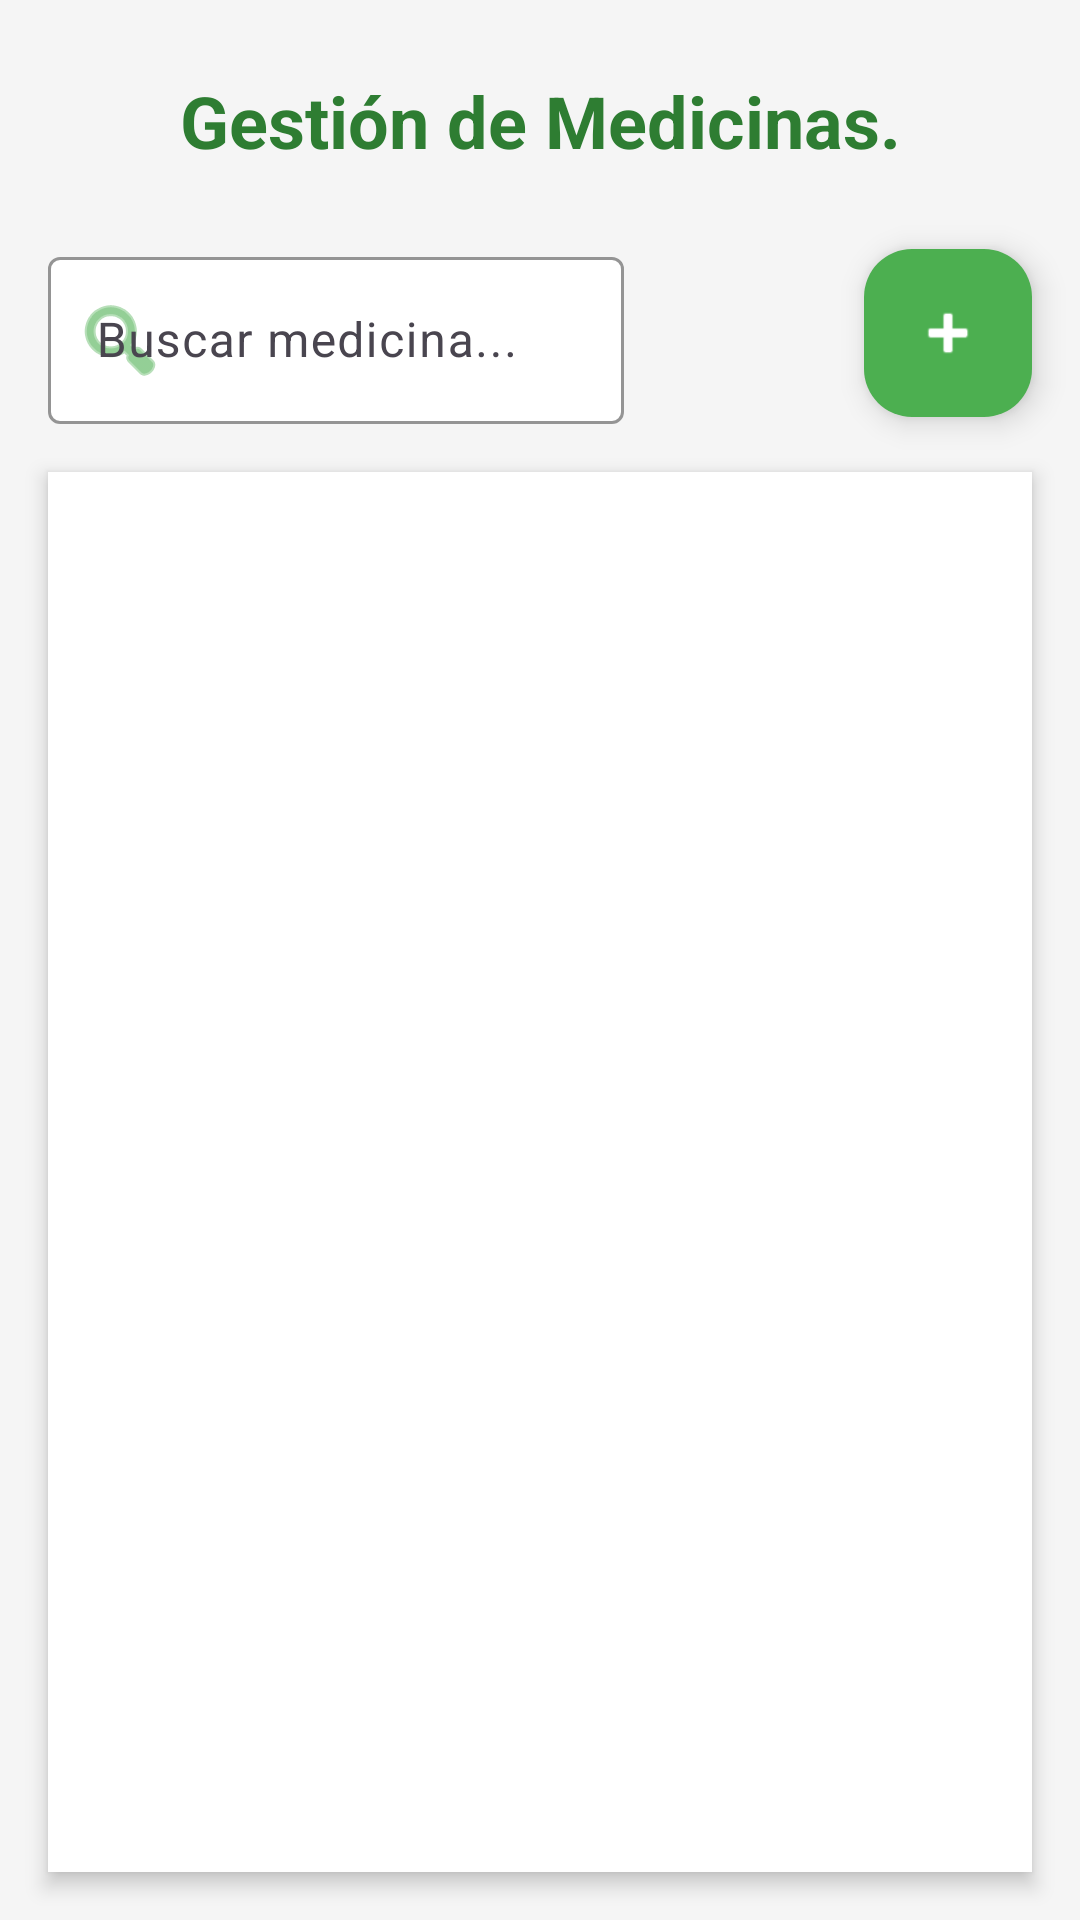

Point at icon controls on the screen. Image size 1080x1920, points as (x,y).
add: (948,333)
